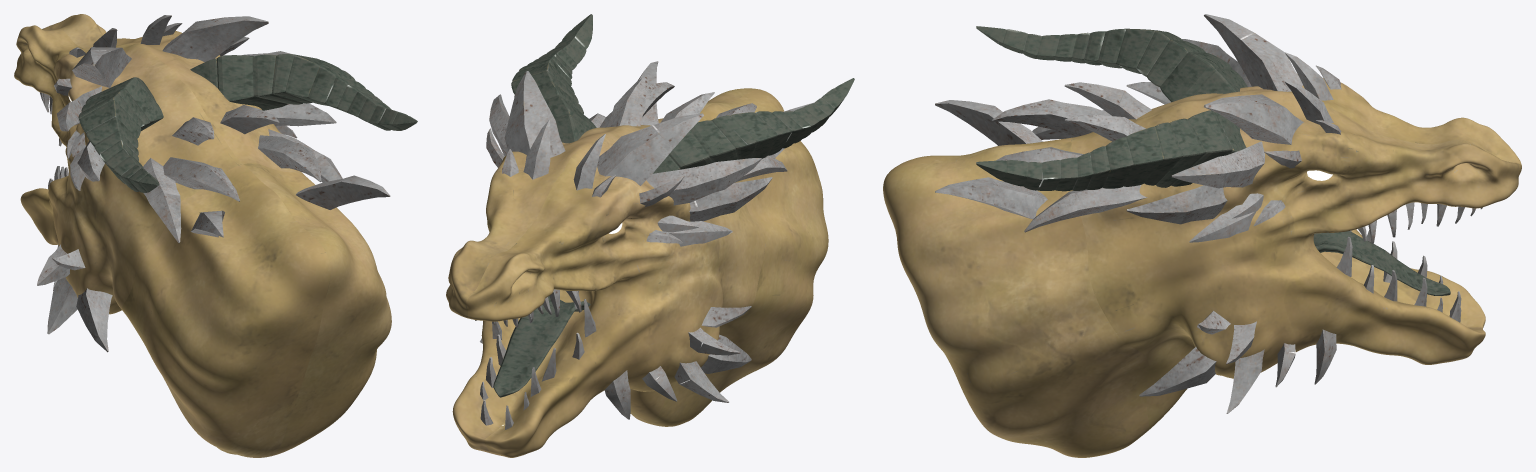
Rendered from Fireball_Trap.glb.
3 views of the same model, side by side, from view 1: azimuth 30°, elevation 25°; view 2: azimuth 150°, elevation 25°; view 3: azimuth 270°, elevation 25° (orthographic). The views are drawn at different scales.
Visible parts, largest first — view 1: Dragon, Dragon_Dragon_0.001; view 2: Dragon, Dragon_Dragon_0.001; view 3: Dragon, Dragon_Dragon_0.001.
Part boxes in pixels (box(x1,y1,x2,y2)): Dragon: box(14, 14, 417, 457); Dragon_Dragon_0.001: box(36, 14, 390, 429); Dragon: box(446, 14, 854, 457); Dragon_Dragon_0.001: box(446, 61, 813, 453); Dragon: box(883, 26, 1521, 457); Dragon_Dragon_0.001: box(885, 14, 1521, 438).
Bounding box in the file's own units: 1.14 × 1.46 × 2.15.
1 material, 1 textured.
